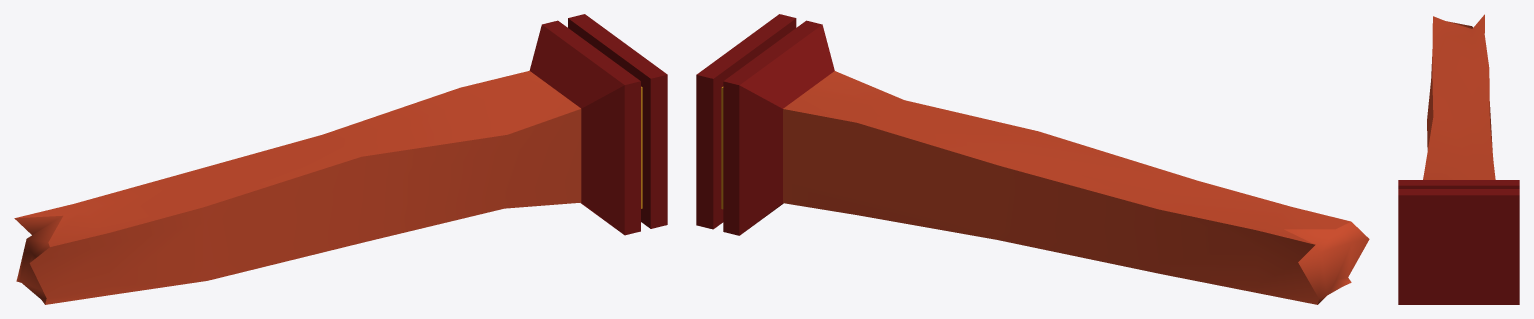
The model's file is TallPillar-Broken.FBX.
3 renders of one model, left to right at view 1: azimuth 30°, elevation 25°; view 2: azimuth 150°, elevation 25°; view 3: azimuth 270°, elevation 25°, orthographic. The views are drawn at different scales.
Parts seen in each view (by area): view 1: TallPillar-Broken; view 2: TallPillar-Broken; view 3: TallPillar-Broken.
Boxes of the visible parts, x1,y1,x2,y2 form: TallPillar-Broken: (14, 14, 667, 304); TallPillar-Broken: (696, 14, 1369, 304); TallPillar-Broken: (1398, 14, 1519, 304).
Bounding box in the file's own units: 111 × 26.01 × 26.01.
